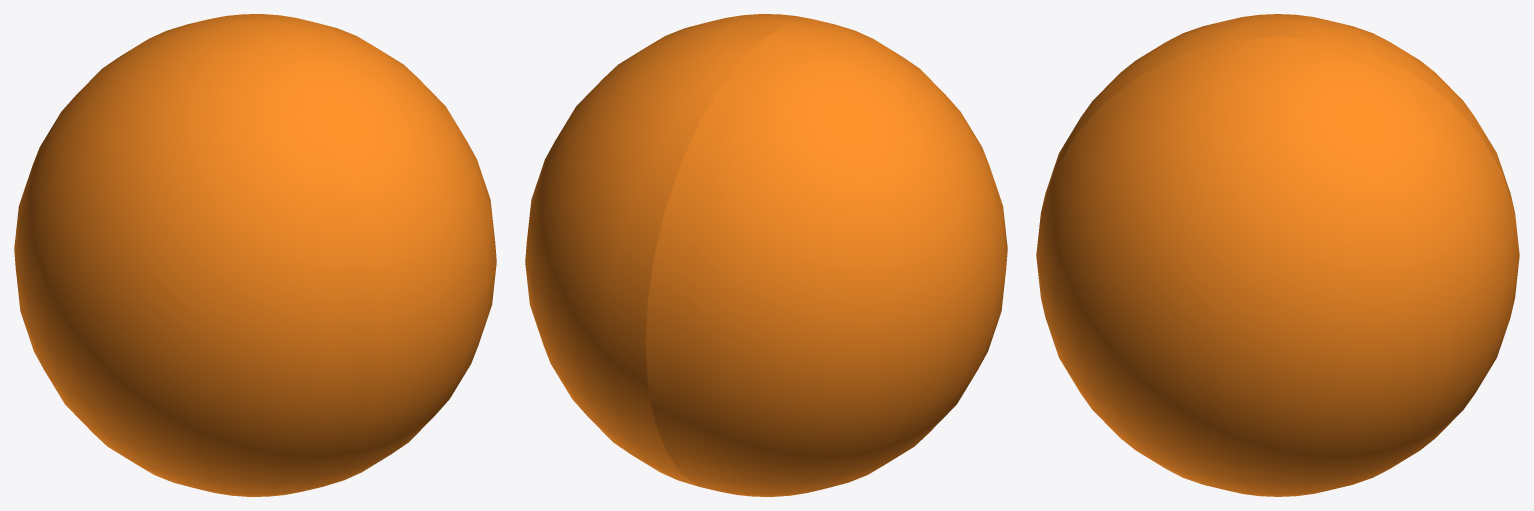
The model's file is Orange_Cut.fbx.
3 views of the same model, side by side, from view 1: azimuth 30°, elevation 25°; view 2: azimuth 150°, elevation 25°; view 3: azimuth 270°, elevation 25° (orthographic).
Visible parts, largest first — view 1: Sphere.003, Sphere.004; view 2: Sphere.003, Sphere.004; view 3: Sphere.004, Sphere.003.
Part boxes in pixels (x1=…): Sphere.003: x1=14, y1=19, x2=376, y2=496; Sphere.004: x1=209, y1=14, x2=496, y2=486; Sphere.003: x1=645, y1=19, x2=1007, y2=496; Sphere.004: x1=525, y1=14, x2=812, y2=486; Sphere.004: x1=1036, y1=36, x2=1519, y2=496; Sphere.003: x1=1041, y1=14, x2=1514, y2=210.
Size of the model in its own units: 0.2 by 0.2 by 0.2.
